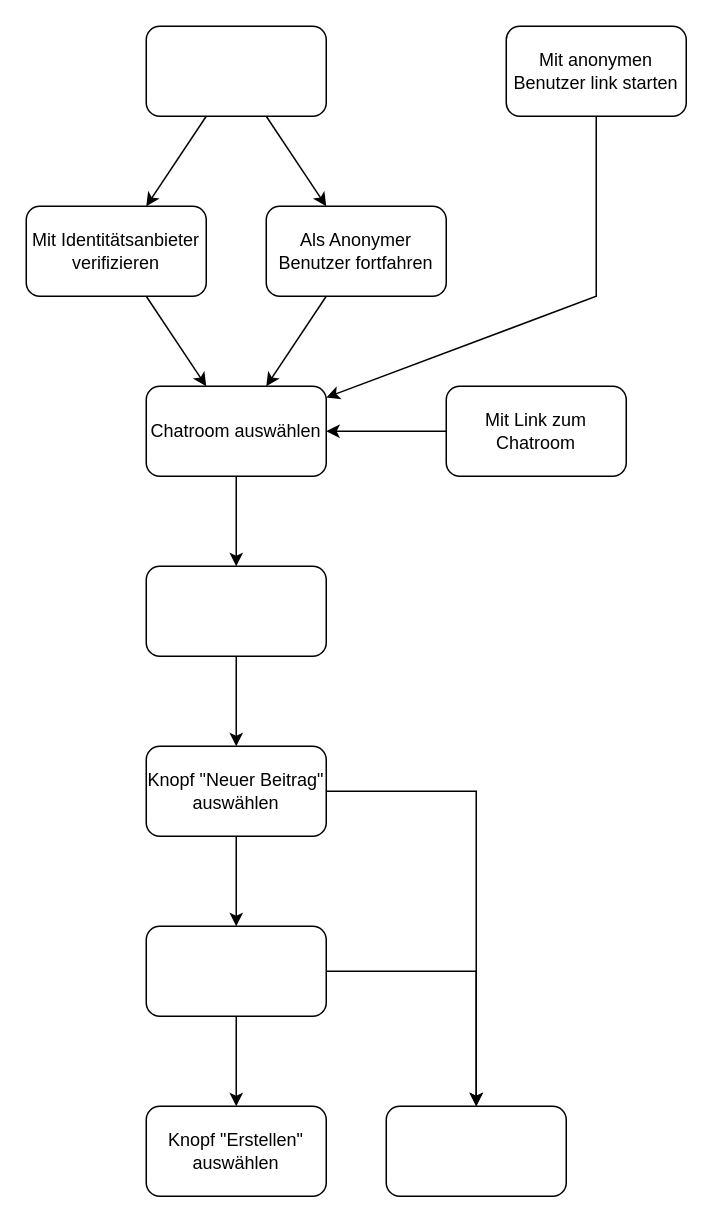
The diagram is 713 pixels wide and 1223 high, and some of its shapes have lost their labels. Each missing label, with the box of its shape:
Beitrag ausfüllen: (145, 925, 326, 1016)
Knopf "Beitrag erstellen" auswählen: (145, 565, 326, 656)
Knopf "Verwerfen" auswählen: (385, 1105, 566, 1196)
Webseite öffnen: (145, 25, 326, 116)
